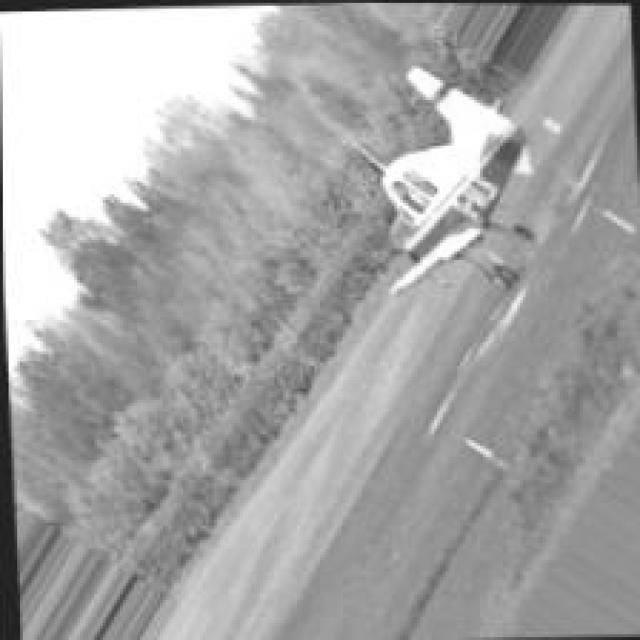aeroplane: (326, 58, 548, 296)
